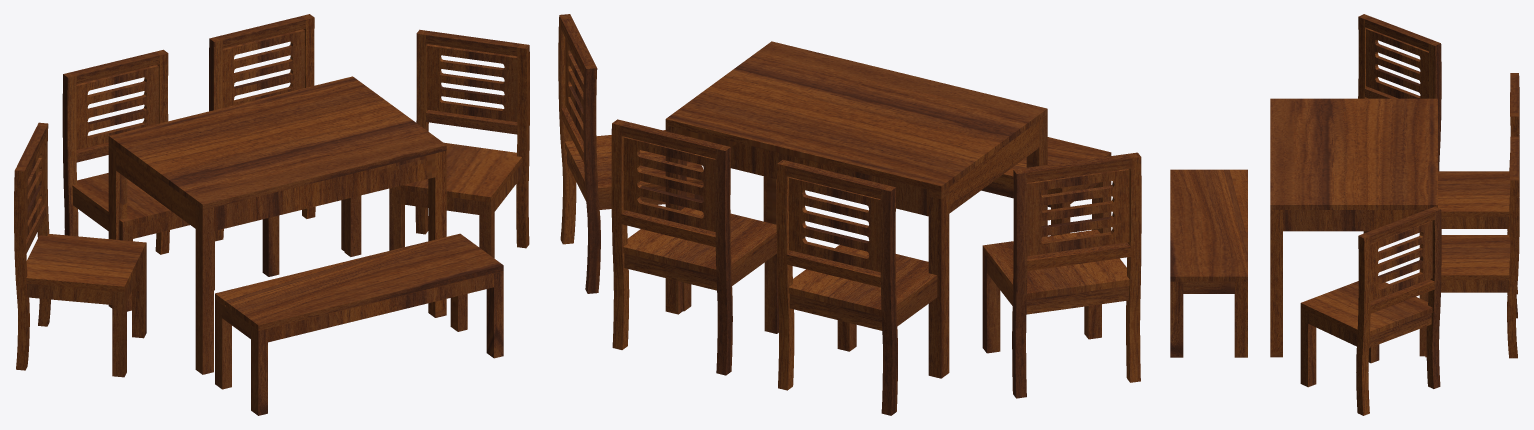
File: Six_Seater_Dining_Table_06.fbx
3 views of the same model, side by side, from view 1: azimuth 30°, elevation 25°; view 2: azimuth 150°, elevation 25°; view 3: azimuth 270°, elevation 25° (orthographic). The views are drawn at different scales.
Visible parts, largest first — view 1: 6_Seater.002; view 2: 6_Seater.002; view 3: 6_Seater.002.
Part boxes in pixels (bbox=[...]): 6_Seater.002: bbox=[14, 14, 529, 415]; 6_Seater.002: bbox=[558, 14, 1141, 415]; 6_Seater.002: bbox=[1170, 14, 1519, 415].
Size of the model in its own units: 242 by 89.1 by 159.
1 material, 1 textured.
